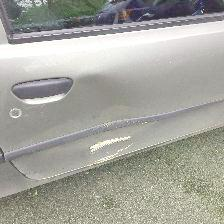door_dent: (73, 98, 172, 176)
